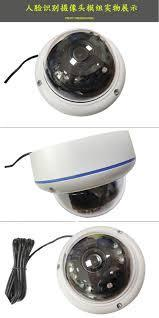maru: (26, 128, 139, 219), (33, 25, 128, 118), (54, 224, 145, 313)
